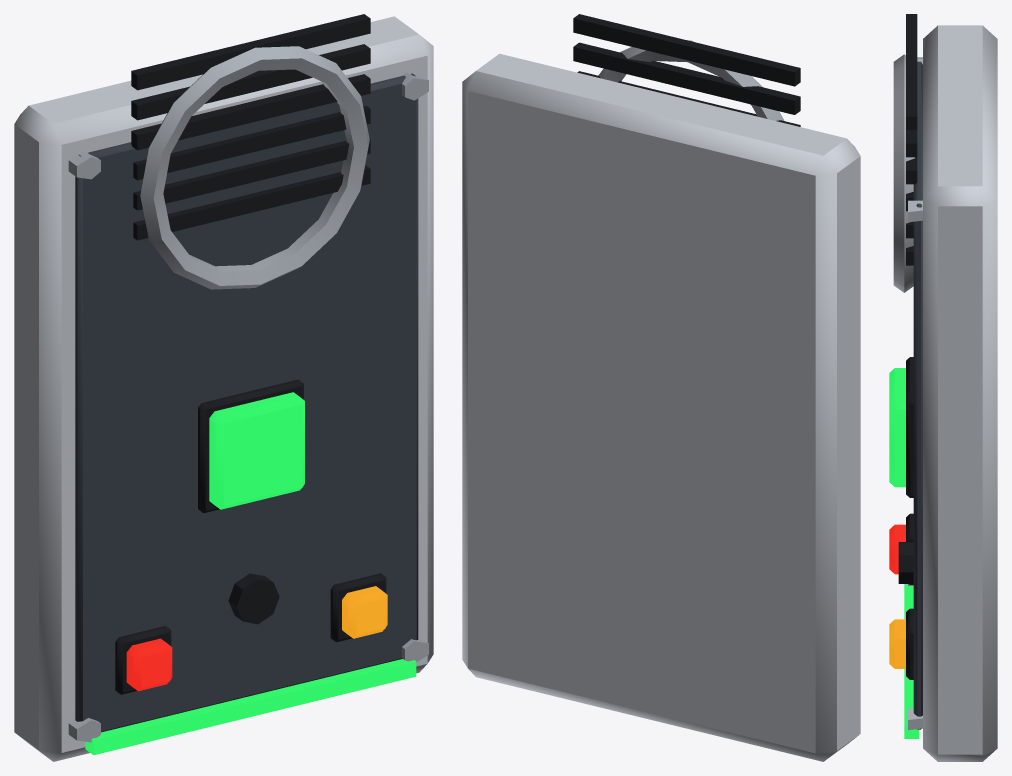
File: controlpanel_intercom_station.glb
3 renders of one model, left to right at view 1: azimuth 30°, elevation 25°; view 2: azimuth 150°, elevation 25°; view 3: azimuth 270°, elevation 25°, orthographic. The views are drawn at different scales.
Parts seen in each view (by area): view 1: controlpanel_intercom_station; view 2: controlpanel_intercom_station; view 3: controlpanel_intercom_station.
Boxes of the visible parts, x1,y1,x2,y2 form: controlpanel_intercom_station: [14, 14, 433, 761]; controlpanel_intercom_station: [462, 14, 860, 761]; controlpanel_intercom_station: [889, 14, 997, 761].
Bounding box in the file's own units: 0.22 × 0.364 × 0.058.
